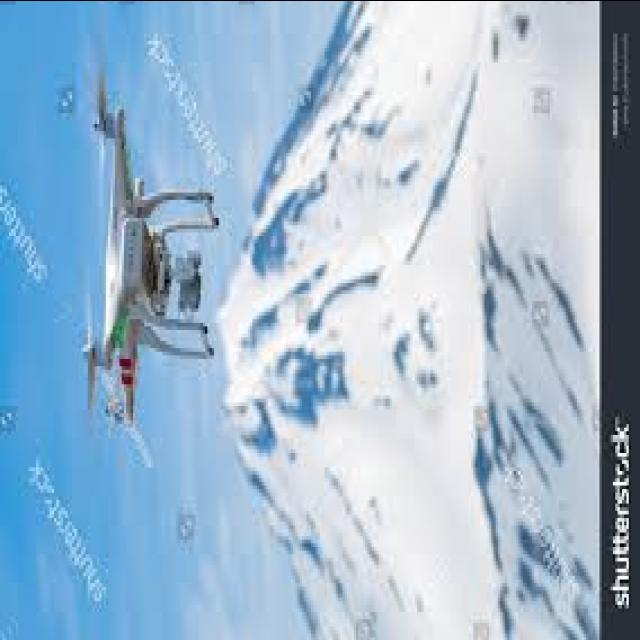drone: (68, 63, 228, 463)
